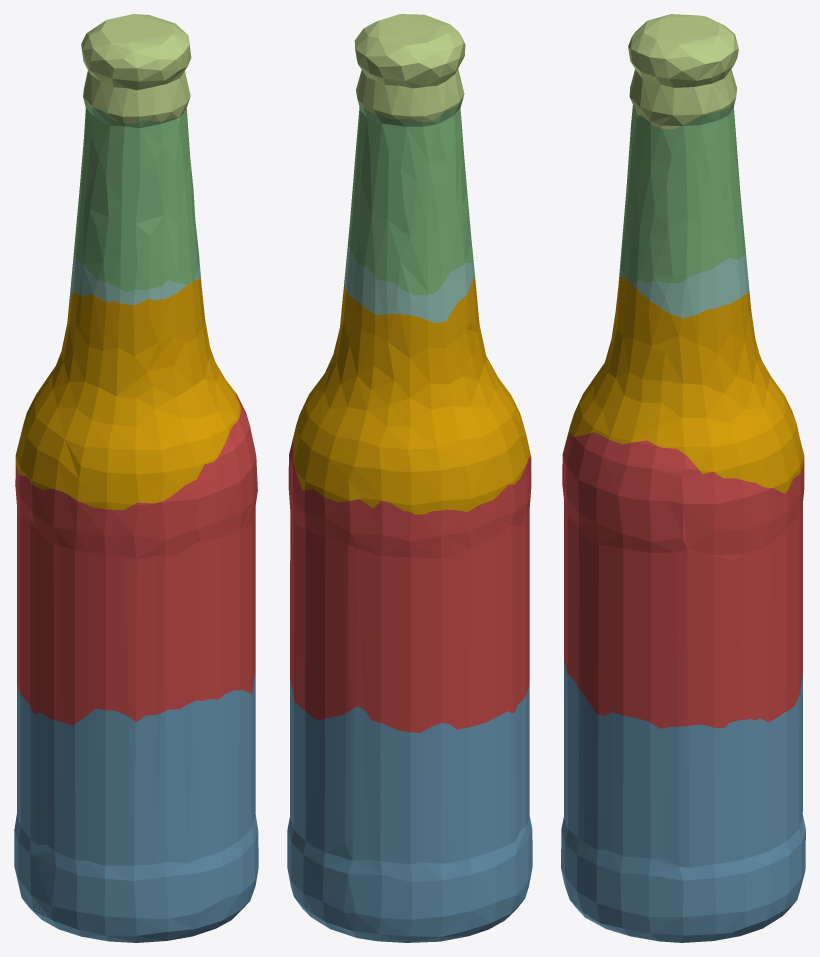
The model's file is fractured_14_6pcs.glb.
3 renders of one model, left to right at view 1: azimuth 30°, elevation 25°; view 2: azimuth 150°, elevation 25°; view 3: azimuth 270°, elevation 25°, orthographic.
Visible parts, largest first — view 1: piece_1.obj, piece_2.obj, piece_0.obj, piece_3.obj, piece_5.obj, piece_4.obj; view 2: piece_1.obj, piece_2.obj, piece_0.obj, piece_3.obj, piece_5.obj, piece_4.obj; view 3: piece_1.obj, piece_2.obj, piece_0.obj, piece_3.obj, piece_5.obj, piece_4.obj.
Part boxes in pixels (bbox=[...]): piece_1.obj: bbox=[15, 393, 257, 725]; piece_2.obj: bbox=[14, 673, 258, 942]; piece_0.obj: bbox=[15, 279, 240, 509]; piece_3.obj: bbox=[73, 99, 199, 292]; piece_5.obj: bbox=[81, 14, 191, 123]; piece_4.obj: bbox=[69, 257, 200, 305]; piece_1.obj: bbox=[288, 439, 531, 732]; piece_2.obj: bbox=[287, 678, 532, 942]; piece_0.obj: bbox=[293, 277, 530, 514]; piece_3.obj: bbox=[347, 97, 473, 295]; piece_5.obj: bbox=[354, 14, 465, 122]; piece_4.obj: bbox=[344, 246, 474, 323]; piece_1.obj: bbox=[562, 431, 804, 728]; piece_2.obj: bbox=[561, 661, 805, 942]; piece_0.obj: bbox=[567, 273, 804, 493]; piece_3.obj: bbox=[620, 101, 746, 283]; piece_5.obj: bbox=[628, 14, 738, 129]; piece_4.obj: bbox=[619, 253, 749, 318].
Size of the model in its own units: 0.2521 by 1 by 0.2519.
